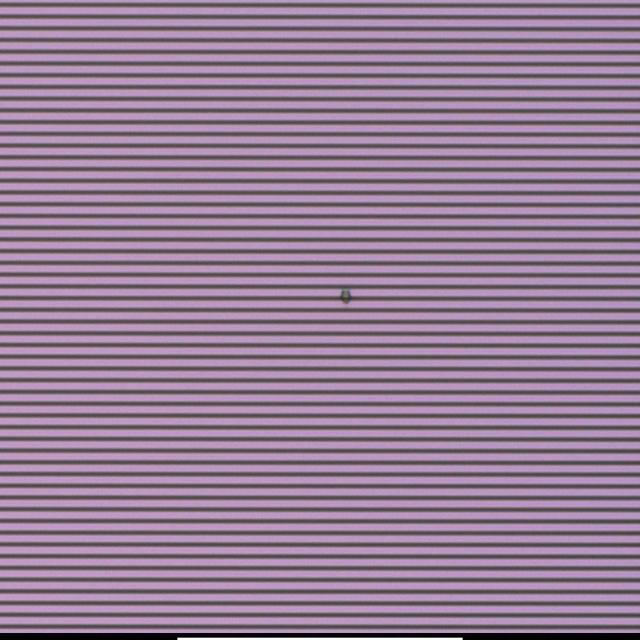03_intrusion: (340, 288, 354, 306)
